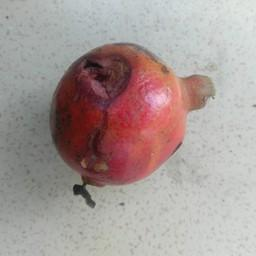Bad_pomegranate: (49, 33, 208, 208)
